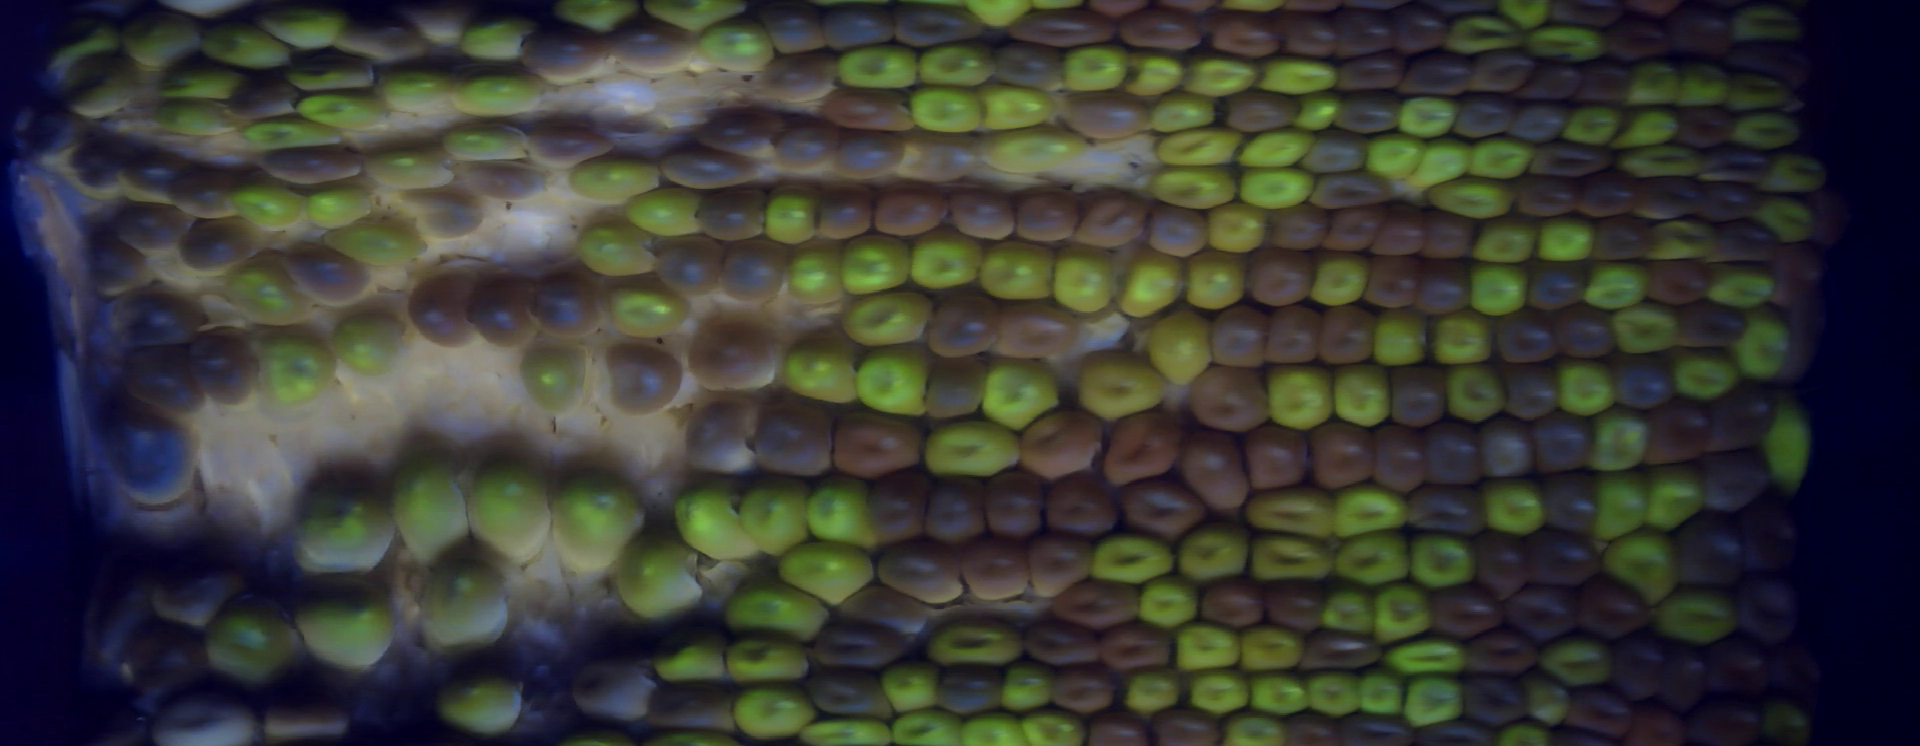fluorescent: (393, 447, 470, 567), (465, 462, 550, 563), (422, 559, 506, 652), (203, 597, 291, 684), (295, 588, 386, 673), (556, 481, 637, 575), (613, 537, 698, 624), (298, 495, 392, 571), (776, 541, 878, 601), (673, 481, 747, 563), (1078, 352, 1164, 419), (923, 420, 1022, 477), (983, 356, 1059, 430), (808, 472, 877, 548), (742, 477, 806, 557), (853, 345, 929, 412), (1605, 534, 1678, 603), (1053, 243, 1118, 316), (729, 587, 823, 637), (267, 334, 334, 404), (722, 632, 812, 684), (519, 347, 589, 410), (333, 317, 411, 374), (1269, 363, 1333, 430), (785, 343, 853, 407), (839, 235, 909, 298), (980, 241, 1051, 303), (223, 267, 300, 323), (1153, 312, 1212, 386), (929, 616, 1021, 663), (609, 284, 689, 337), (441, 677, 525, 728), (1333, 533, 1413, 586), (571, 156, 658, 203), (1093, 535, 1180, 583), (730, 686, 808, 739), (1119, 252, 1178, 322), (1243, 488, 1335, 532), (1408, 530, 1474, 592), (1169, 619, 1240, 675), (1250, 532, 1333, 579), (200, 26, 291, 69), (1185, 247, 1245, 312), (703, 13, 770, 71), (574, 223, 651, 273), (1654, 592, 1731, 642), (1182, 527, 1250, 583), (118, 16, 200, 62), (1644, 465, 1703, 530), (909, 232, 977, 287), (653, 628, 722, 682), (1373, 584, 1434, 646), (838, 42, 916, 89), (620, 190, 702, 235), (918, 40, 993, 89), (328, 225, 427, 262), (1331, 366, 1391, 426), (913, 83, 983, 135), (981, 87, 1056, 135), (266, 9, 347, 53), (1591, 407, 1644, 473), (1333, 486, 1406, 535), (1150, 168, 1234, 209), (1430, 178, 1513, 219), (1442, 365, 1502, 423), (1483, 480, 1544, 537), (1736, 306, 1784, 377), (1367, 307, 1428, 363), (1707, 262, 1778, 309), (366, 149, 453, 187), (1768, 407, 1809, 488), (1158, 127, 1242, 167), (1431, 312, 1496, 363), (1468, 265, 1529, 317), (1545, 637, 1608, 688), (1185, 54, 1258, 98), (1555, 360, 1611, 416), (298, 89, 380, 127), (1063, 44, 1128, 92), (1611, 303, 1671, 354), (1598, 473, 1644, 539), (159, 64, 242, 100), (242, 116, 347, 146), (457, 77, 536, 115), (288, 53, 370, 89), (792, 243, 838, 309), (1258, 58, 1333, 97), (1583, 262, 1647, 307), (380, 72, 451, 113), (1382, 642, 1463, 677), (891, 706, 962, 746), (1403, 677, 1463, 725), (1644, 219, 1709, 263), (1469, 134, 1531, 180), (1238, 627, 1300, 673), (1236, 167, 1311, 203), (1127, 48, 1183, 97), (1240, 130, 1310, 169), (1671, 352, 1739, 392), (1310, 256, 1363, 307), (1367, 134, 1422, 183), (1725, 67, 1787, 111), (158, 102, 242, 134), (1307, 668, 1363, 715), (234, 186, 302, 225), (1322, 589, 1380, 636), (1622, 145, 1703, 178), (1755, 198, 1813, 244), (1141, 579, 1195, 628), (764, 187, 811, 244), (1562, 104, 1620, 149), (460, 22, 529, 60), (1150, 94, 1216, 134), (804, 718, 896, 746), (1419, 135, 1471, 185), (1248, 674, 1308, 717), (1539, 218, 1594, 265), (447, 127, 523, 160), (1447, 18, 1523, 51), (1473, 222, 1534, 262), (1735, 111, 1799, 149), (1760, 156, 1823, 194), (1401, 96, 1457, 138), (999, 661, 1047, 712), (1212, 205, 1264, 251), (884, 661, 936, 708), (1523, 675, 1569, 726), (1524, 27, 1600, 58), (309, 192, 369, 230), (1025, 707, 1082, 746), (1616, 111, 1678, 147), (1629, 62, 1678, 107), (1125, 671, 1177, 713), (1187, 674, 1244, 710), (1679, 62, 1727, 107), (62, 27, 118, 62), (1220, 713, 1278, 746), (962, 714, 1021, 746), (1358, 673, 1401, 710), (1733, 12, 1798, 37), (1298, 96, 1341, 132), (1498, 722, 1554, 745)
nonfluorescent: (98, 388, 196, 507), (408, 257, 475, 345), (148, 695, 262, 746), (684, 323, 773, 390), (754, 407, 836, 478), (833, 410, 918, 475), (1123, 473, 1204, 541), (1185, 432, 1253, 514), (683, 402, 758, 475), (1018, 412, 1098, 479), (1043, 472, 1123, 539), (278, 246, 365, 307), (520, 23, 609, 83), (566, 663, 658, 720), (604, 344, 684, 409), (1104, 415, 1180, 484), (1191, 367, 1269, 432), (931, 296, 1002, 365), (467, 274, 531, 349), (122, 350, 198, 414), (880, 540, 962, 599), (1676, 511, 1740, 586), (978, 464, 1043, 537), (156, 566, 238, 622), (1243, 429, 1314, 492), (1060, 92, 1153, 140), (802, 665, 890, 715), (190, 337, 255, 404), (1643, 398, 1708, 465), (653, 233, 722, 295), (613, 20, 694, 73), (530, 271, 598, 334), (816, 624, 902, 673), (1007, 7, 1112, 48), (721, 239, 787, 303), (1097, 620, 1173, 675), (890, 2, 984, 47), (1709, 383, 1774, 447), (959, 540, 1026, 601), (905, 127, 980, 183), (869, 467, 924, 541), (124, 636, 209, 684), (1314, 425, 1378, 489), (838, 587, 927, 632), (923, 356, 983, 424), (1524, 530, 1596, 587), (180, 218, 260, 268), (1118, 7, 1209, 51), (662, 149, 756, 192), (1531, 412, 1592, 477), (458, 159, 545, 205), (697, 110, 781, 157), (1053, 579, 1138, 626), (922, 474, 984, 537), (1027, 535, 1091, 597), (1711, 631, 1769, 697), (647, 690, 733, 734), (773, 116, 838, 175), (1707, 450, 1773, 507), (1573, 579, 1646, 632), (256, 147, 362, 183), (530, 125, 613, 170), (403, 187, 478, 238), (1078, 187, 1142, 245), (822, 85, 909, 127), (1425, 419, 1480, 486), (998, 307, 1071, 358), (1478, 412, 1531, 481), (1491, 307, 1558, 363), (1502, 586, 1569, 641), (1027, 619, 1101, 668), (1614, 628, 1663, 702), (996, 40, 1065, 92), (1251, 244, 1310, 304), (1209, 11, 1286, 56), (1678, 303, 1747, 352), (838, 129, 902, 181), (818, 2, 889, 50), (1204, 572, 1264, 628), (1464, 630, 1537, 676), (1523, 262, 1588, 314), (1663, 7, 1729, 58), (1300, 635, 1380, 676), (697, 192, 768, 239), (1389, 363, 1442, 424), (767, 49, 830, 100), (1708, 216, 1780, 261), (336, 20, 419, 59), (1224, 89, 1300, 132), (1413, 488, 1483, 534), (1152, 202, 1210, 258), (132, 296, 198, 345), (1269, 303, 1318, 369), (1013, 190, 1071, 245), (874, 190, 948, 234), (1311, 171, 1393, 211), (1476, 533, 1524, 598), (1431, 584, 1487, 642), (1540, 473, 1594, 532), (1728, 33, 1798, 78), (1213, 315, 1273, 367), (953, 190, 1013, 243), (1613, 354, 1673, 407), (1378, 432, 1428, 495), (1744, 578, 1793, 642), (1771, 247, 1822, 307), (115, 206, 178, 255), (816, 187, 878, 236), (754, 4, 818, 51), (1267, 577, 1322, 632), (1403, 53, 1471, 97), (1419, 205, 1473, 260), (1418, 262, 1473, 316), (1460, 674, 1523, 720), (1636, 175, 1707, 217), (1648, 257, 1707, 307), (1665, 638, 1708, 707), (1336, 51, 1406, 93), (1330, 712, 1414, 746), (1569, 685, 1629, 733), (24, 113, 77, 167), (1474, 47, 1531, 97), (122, 153, 180, 202), (1322, 307, 1370, 366), (1531, 141, 1611, 175), (1607, 13, 1663, 62), (1336, 10, 1393, 58), (1589, 217, 1651, 261), (1333, 92, 1400, 132), (1516, 179, 1583, 218), (1558, 307, 1611, 356), (1364, 260, 1419, 307), (1267, 202, 1324, 249), (1676, 103, 1733, 149), (1303, 134, 1365, 175), (94, 244, 143, 296), (1326, 208, 1378, 257), (1153, 708, 1220, 746), (72, 145, 122, 194), (1509, 369, 1556, 420), (178, 173, 233, 217), (1283, 13, 1333, 61), (1378, 207, 1425, 257), (264, 709, 344, 739), (1451, 100, 1511, 138), (1708, 152, 1768, 190), (229, 83, 295, 118), (1531, 59, 1583, 102), (1393, 11, 1449, 51), (1583, 58, 1629, 107), (1580, 176, 1636, 216), (1512, 108, 1570, 145), (1062, 675, 1109, 714), (1707, 183, 1760, 217), (1418, 722, 1480, 746), (1283, 714, 1325, 746)
